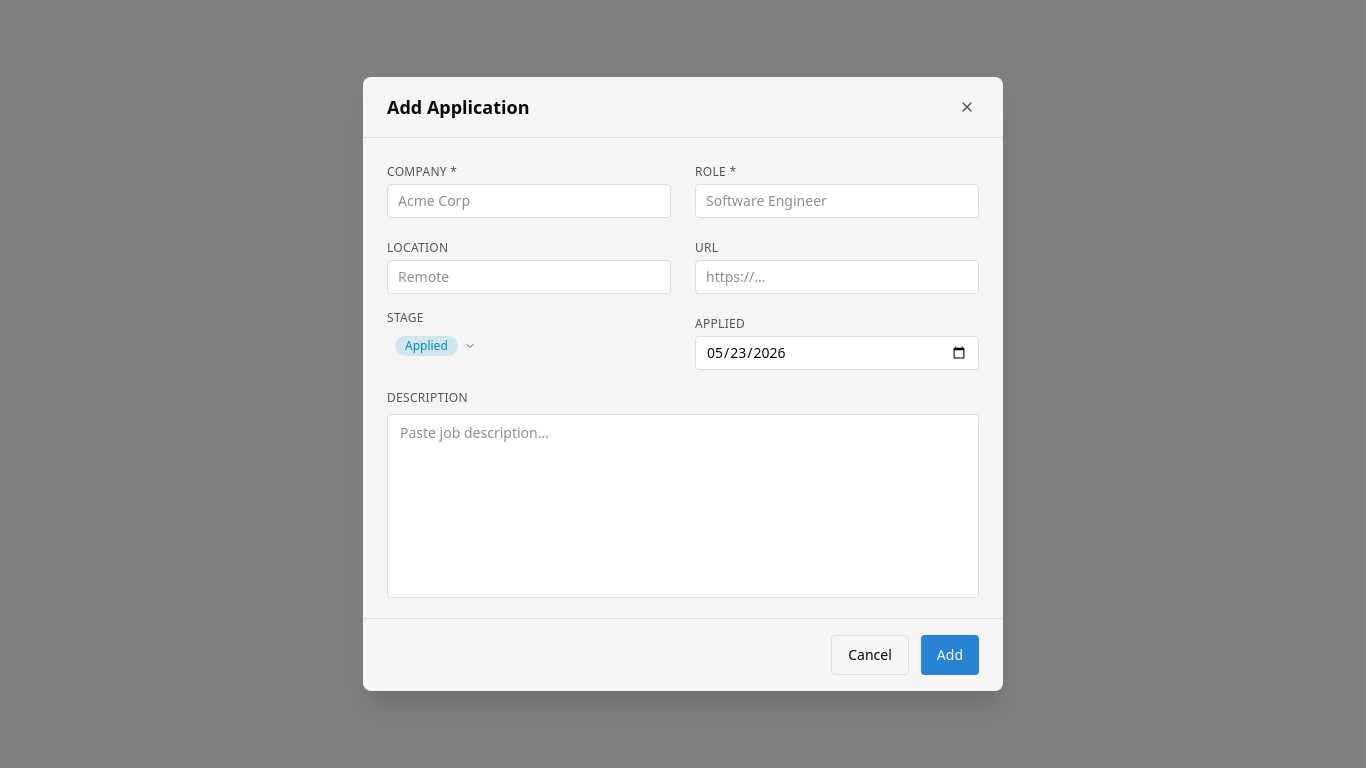
Test case: CreateJobApplicationModal › shows validation errors when required fields are empty on submit
Click the button "Add".
click(950, 655)  # box x1=921 y1=635 x2=979 y2=675
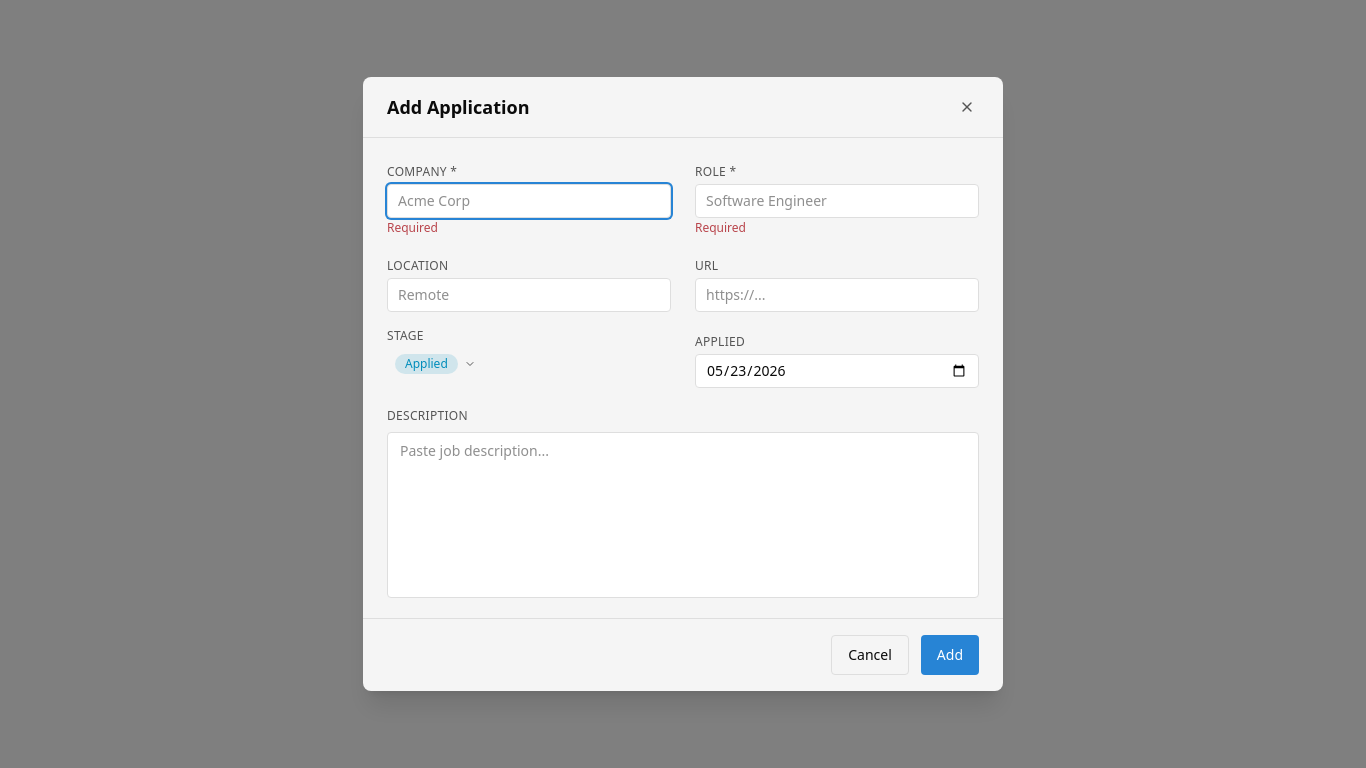
Expected: the text "Required" is shown 2 times, x1=387 y1=219 x2=438 y2=236; x1=695 y1=219 x2=746 y2=236
